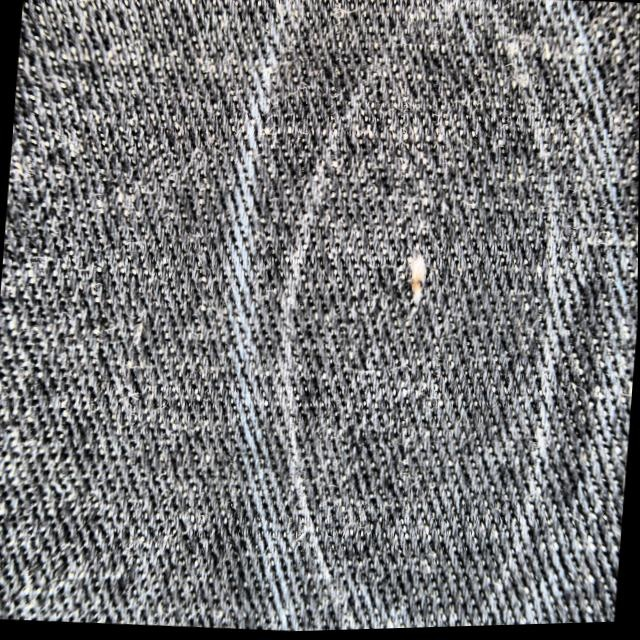Hole: (383, 225, 454, 331)
